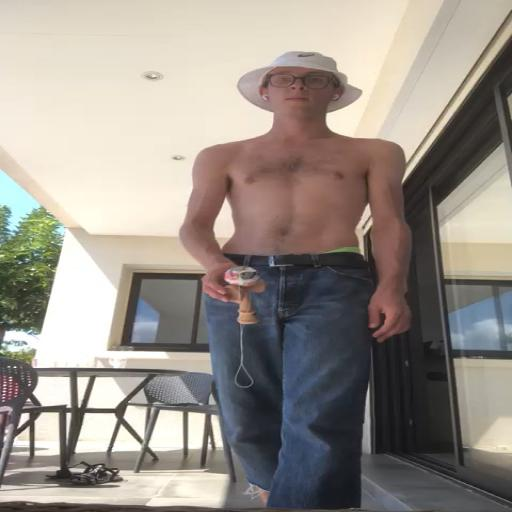kendama_ball: (224, 266, 260, 287)
